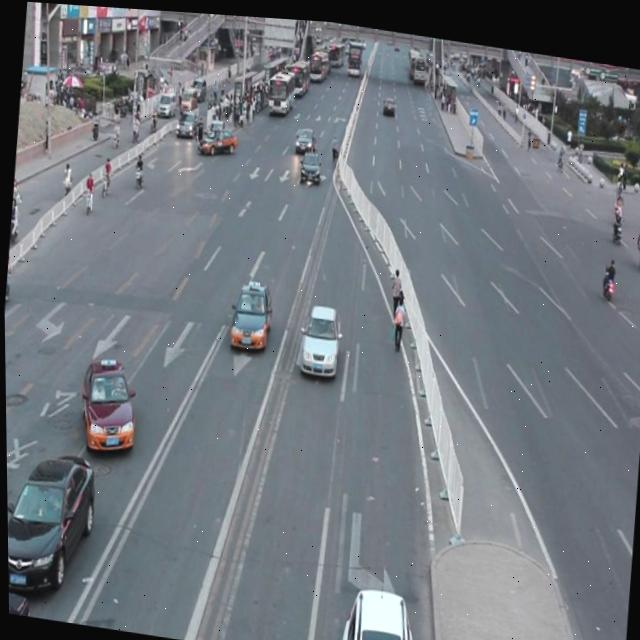car: (5, 439, 98, 599), (75, 350, 140, 458), (332, 574, 425, 640), (295, 294, 343, 375), (226, 271, 273, 352), (7, 582, 30, 616)
